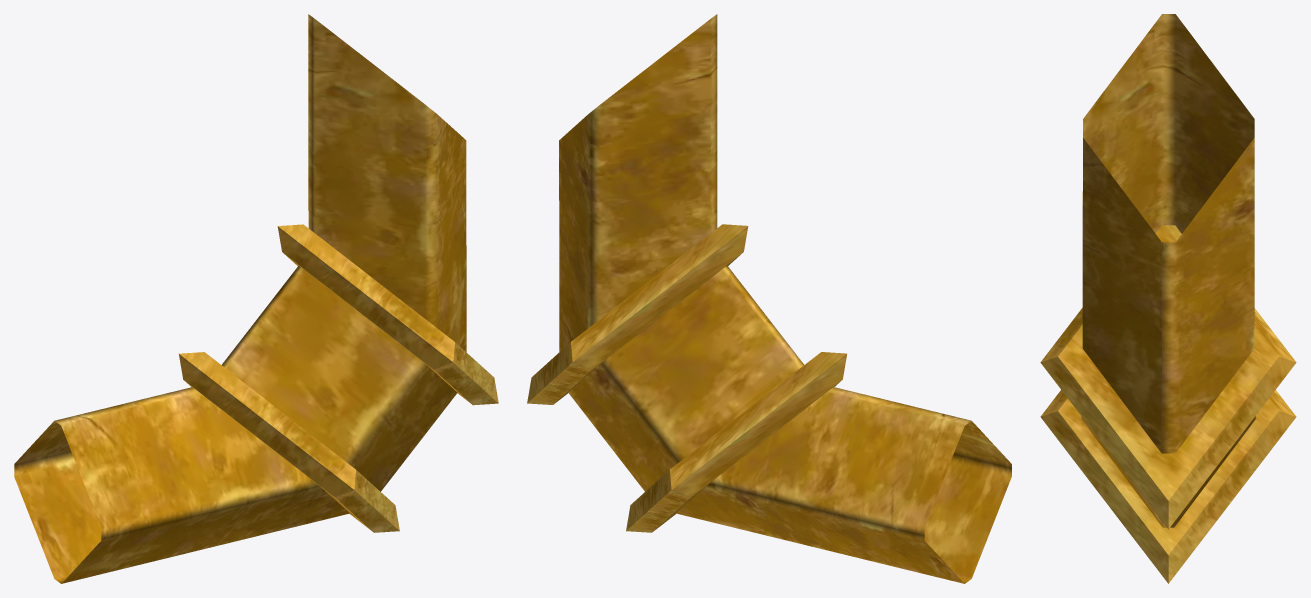
3 views of the same model, side by side, from view 1: azimuth 30°, elevation 25°; view 2: azimuth 150°, elevation 25°; view 3: azimuth 270°, elevation 25° (orthographic).
Visible parts, largest first — view 1: SM_Dragonkin_Pipe_Small_Elbow_04_v2_LOD0; view 2: SM_Dragonkin_Pipe_Small_Elbow_04_v2_LOD0; view 3: SM_Dragonkin_Pipe_Small_Elbow_04_v2_LOD0.
Part boxes in pixels (x1=…): SM_Dragonkin_Pipe_Small_Elbow_04_v2_LOD0: x1=14, y1=14, x2=498, y2=583; SM_Dragonkin_Pipe_Small_Elbow_04_v2_LOD0: x1=527, y1=14, x2=1011, y2=583; SM_Dragonkin_Pipe_Small_Elbow_04_v2_LOD0: x1=1040, y1=14, x2=1296, y2=583.
Bounding box in the file's own units: 1.34 × 1.55 × 0.6837.
1 material, 1 textured.
